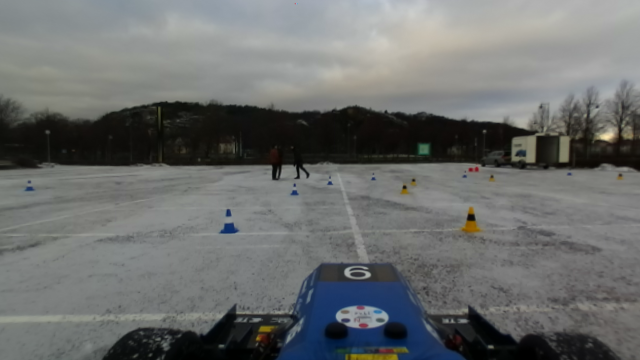blue: (218, 208, 241, 235)
yellow: (459, 205, 482, 235)
